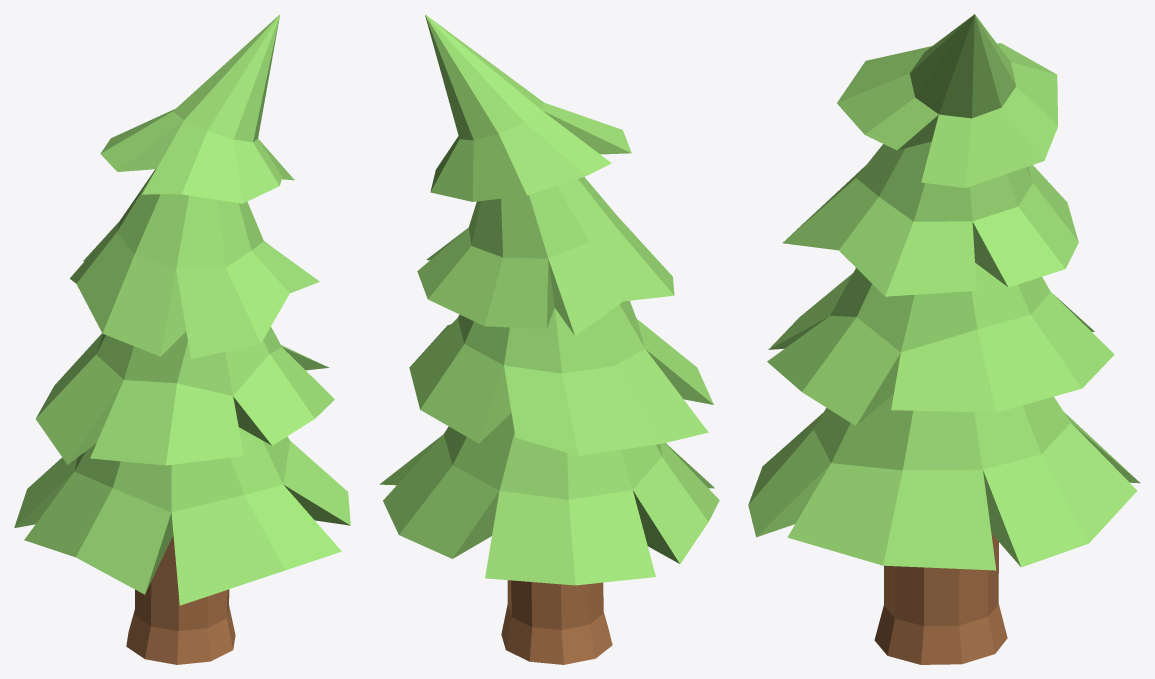
File: Tree2_1Rot.fbx
3 views of the same model, side by side, from view 1: azimuth 30°, elevation 25°; view 2: azimuth 150°, elevation 25°; view 3: azimuth 270°, elevation 25° (orthographic). The views are drawn at different scales.
Parts seen in each view (by area): view 1: Tree2.1Rot; view 2: Tree2.1Rot; view 3: Tree2.1Rot.
Part boxes in pixels (x1=…): Tree2.1Rot: x1=14, y1=14, x2=350, y2=664; Tree2.1Rot: x1=379, y1=14, x2=719, y2=664; Tree2.1Rot: x1=748, y1=14, x2=1140, y2=664.
Bounding box in the file's own units: 358 × 704 × 362.
